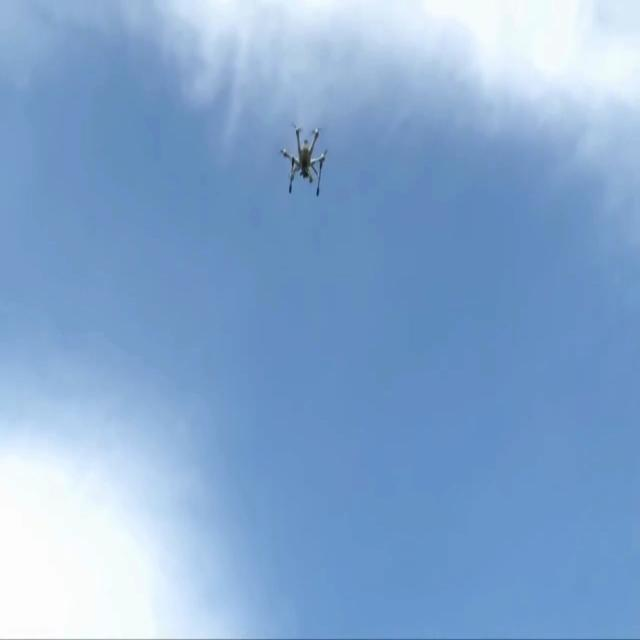drone: (279, 121, 328, 197)
